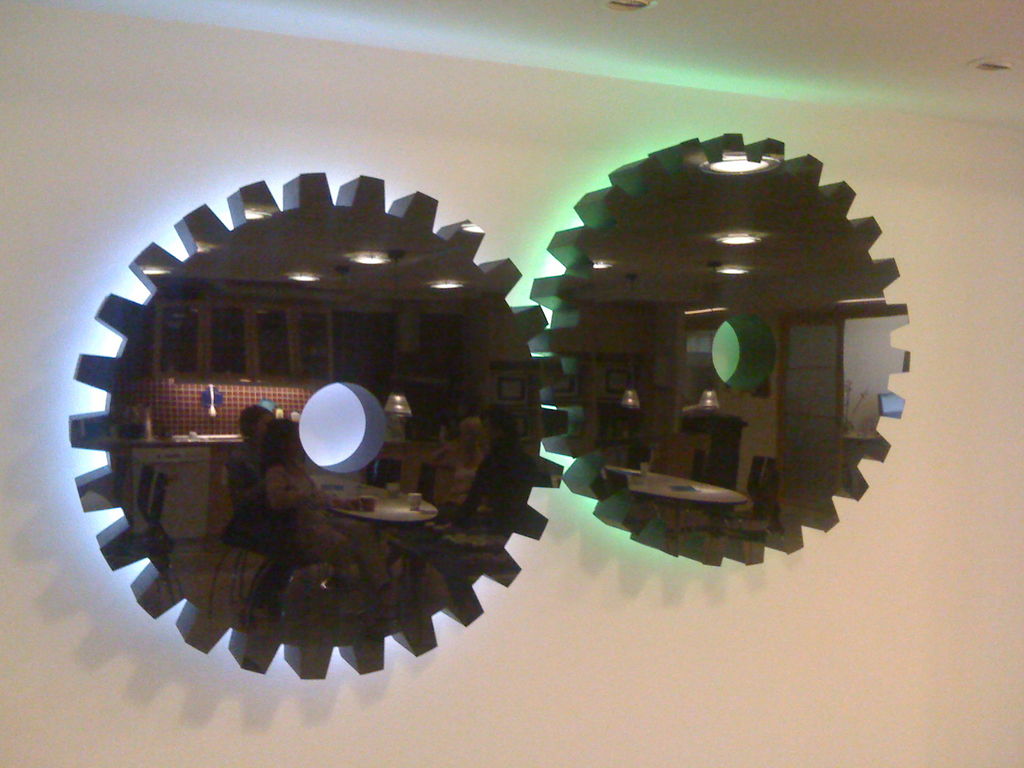person: (221, 403, 320, 626)
